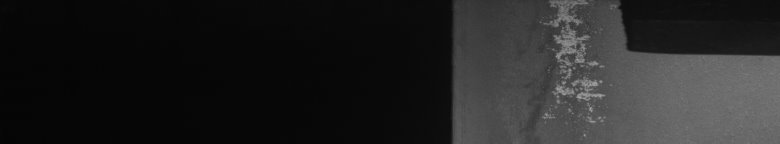kb: (540, 4, 776, 136)
